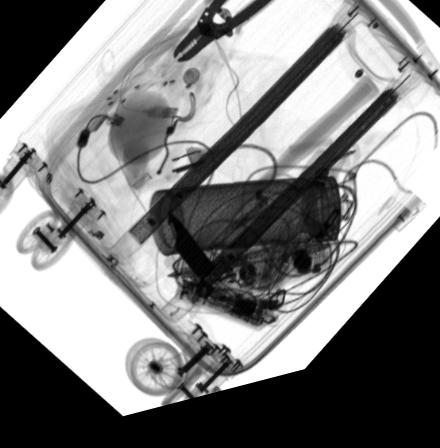Hammer: (167, 93, 380, 296)
Knife: (212, 258, 331, 282)
Pliers: (172, 0, 290, 72)
Scissors: (166, 219, 344, 300)
